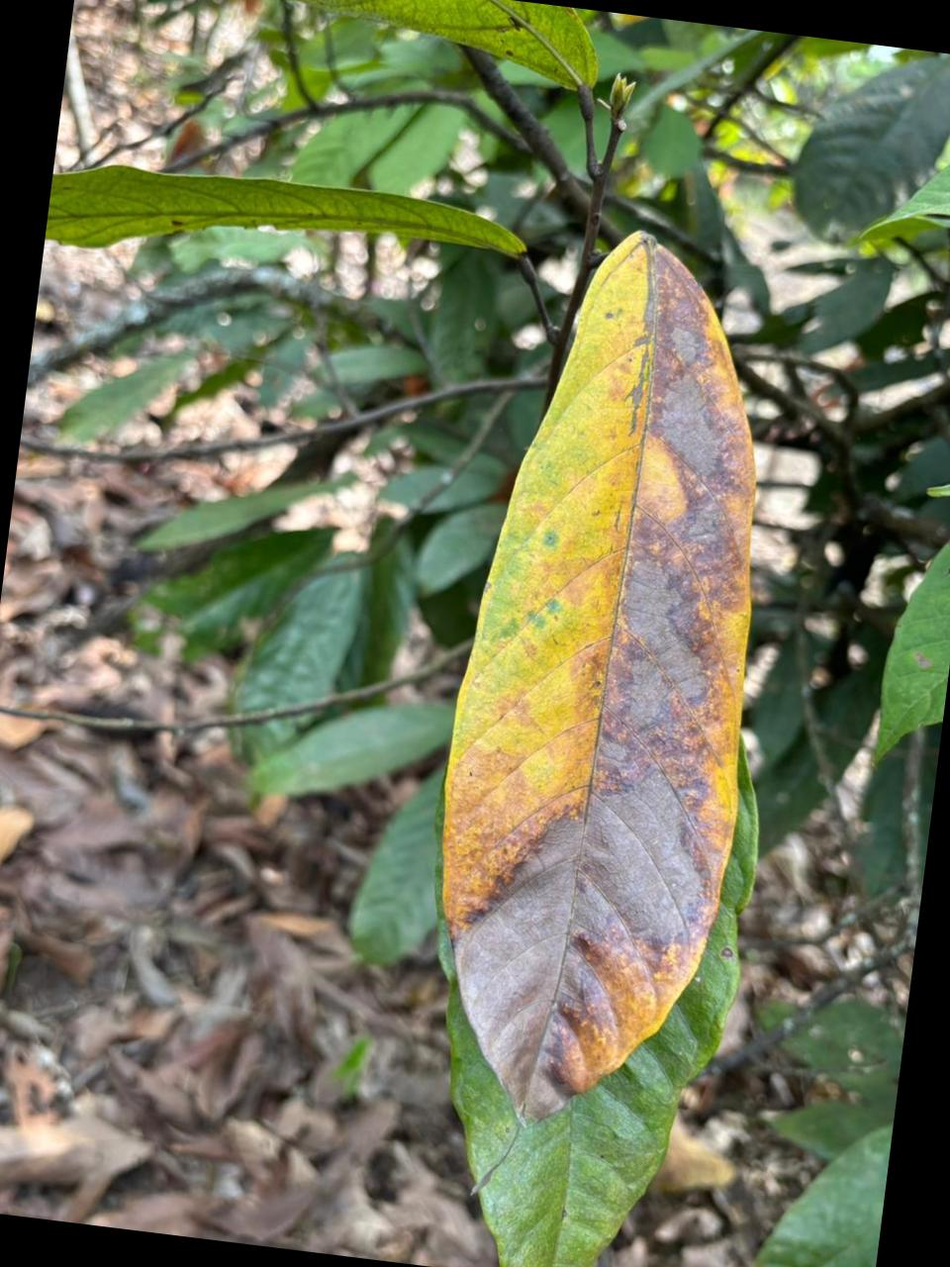Fosforo: (442, 233, 754, 1124)
